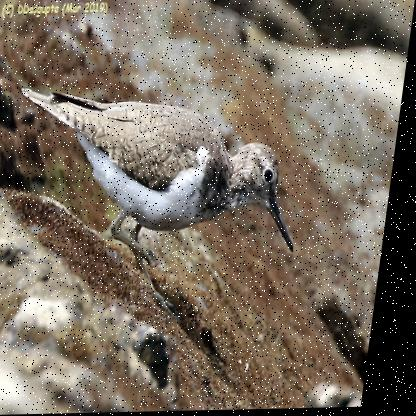Burung: (0, 79, 317, 323)
